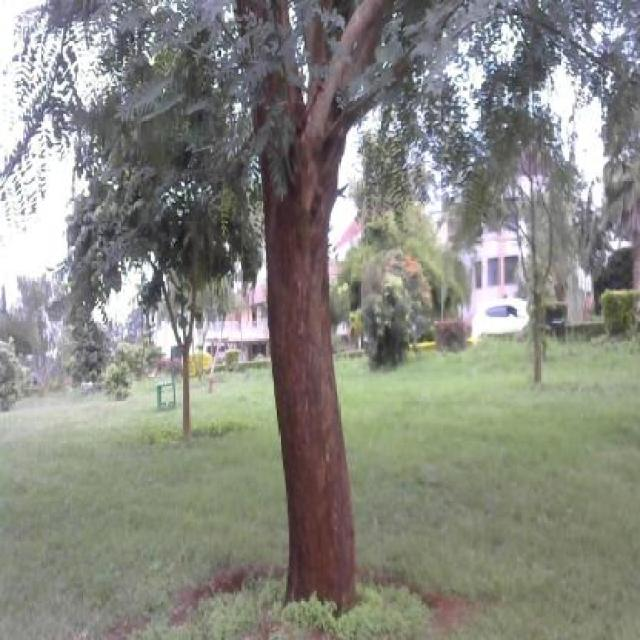tree trunk: (247, 56, 358, 621)
